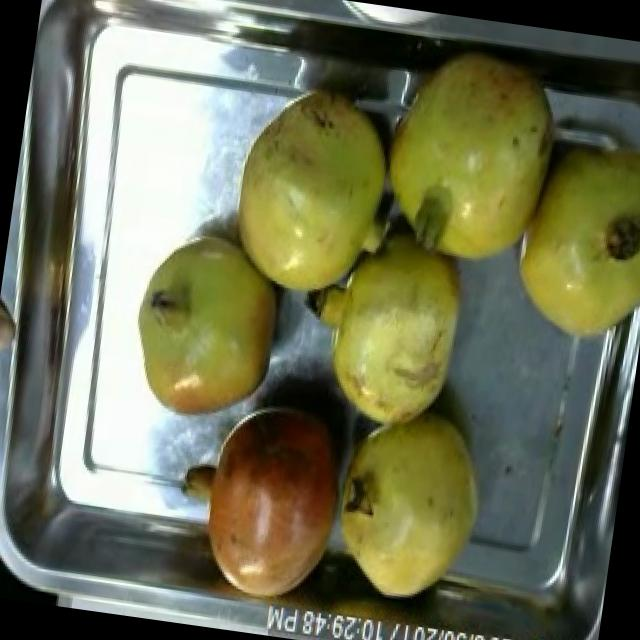fruit: (356, 27, 590, 300), (208, 64, 420, 332), (283, 221, 482, 449), (181, 382, 363, 625), (119, 217, 301, 438), (320, 392, 500, 612), (484, 115, 640, 364), (0, 288, 27, 373)
